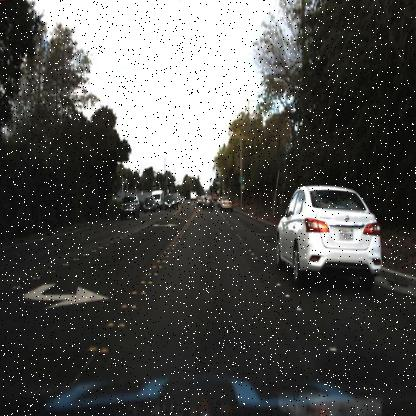car: (268, 182, 390, 297), (116, 192, 140, 223), (139, 193, 158, 217), (219, 192, 236, 214), (150, 188, 164, 210), (199, 193, 214, 212), (163, 192, 178, 210)
